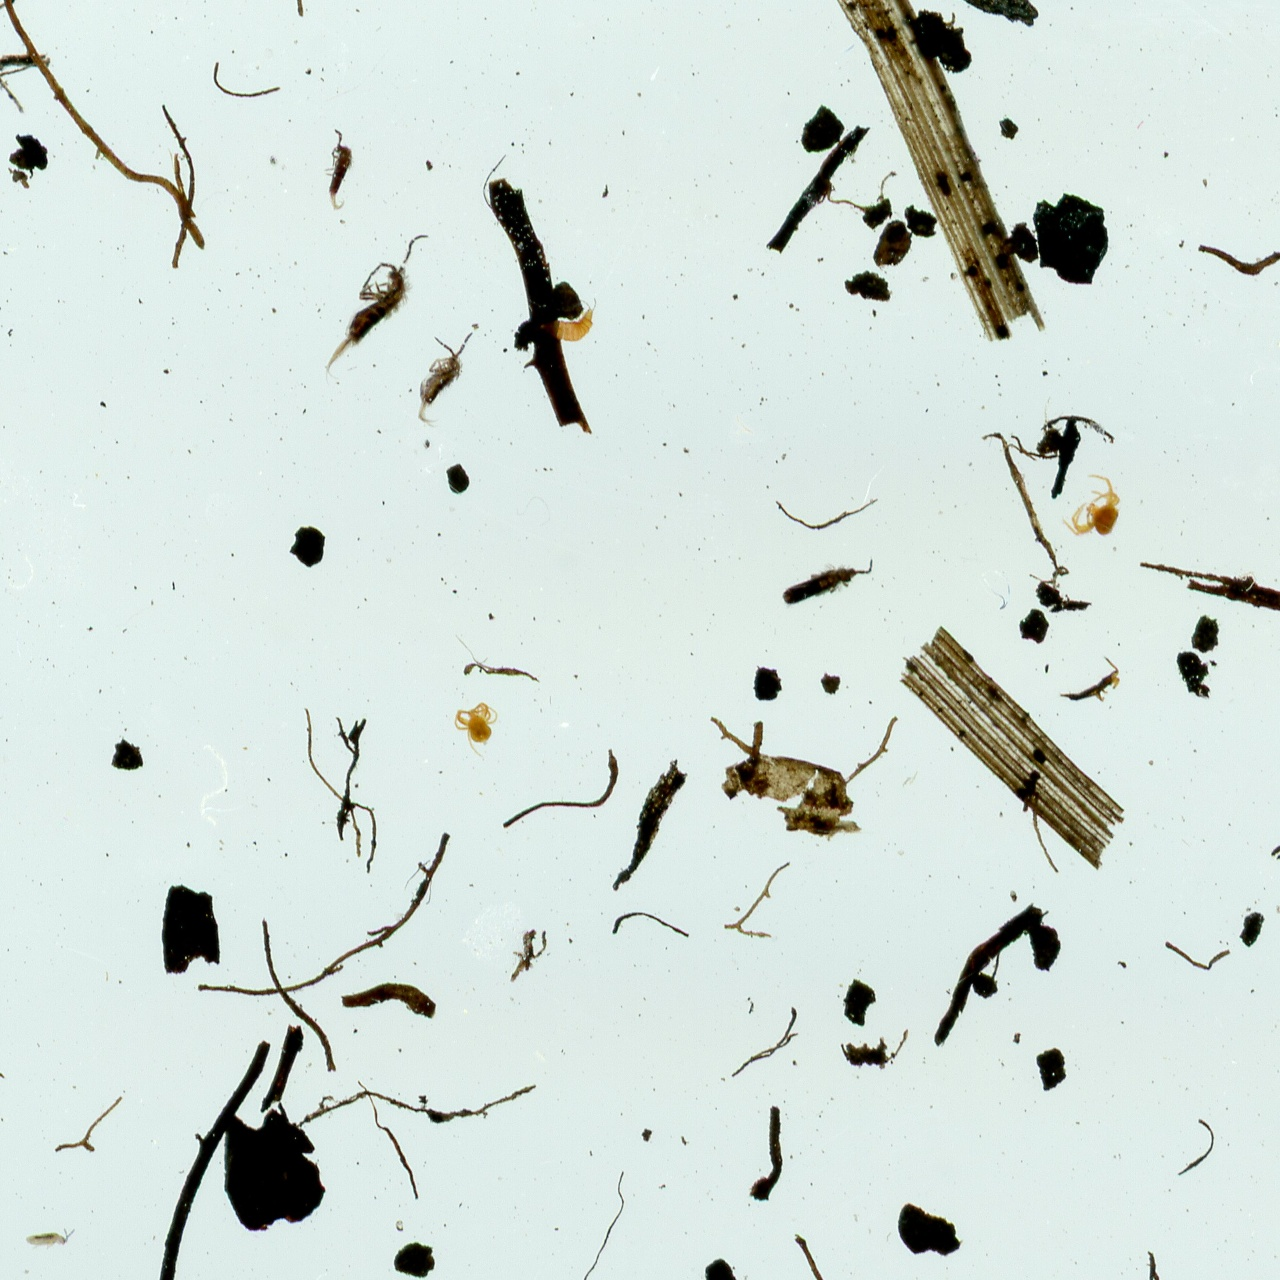arthropod: (297, 213, 452, 409), (389, 311, 490, 438), (772, 544, 884, 615), (1061, 474, 1123, 539), (538, 297, 599, 351), (322, 123, 356, 213), (451, 700, 500, 759), (22, 1224, 78, 1254)
